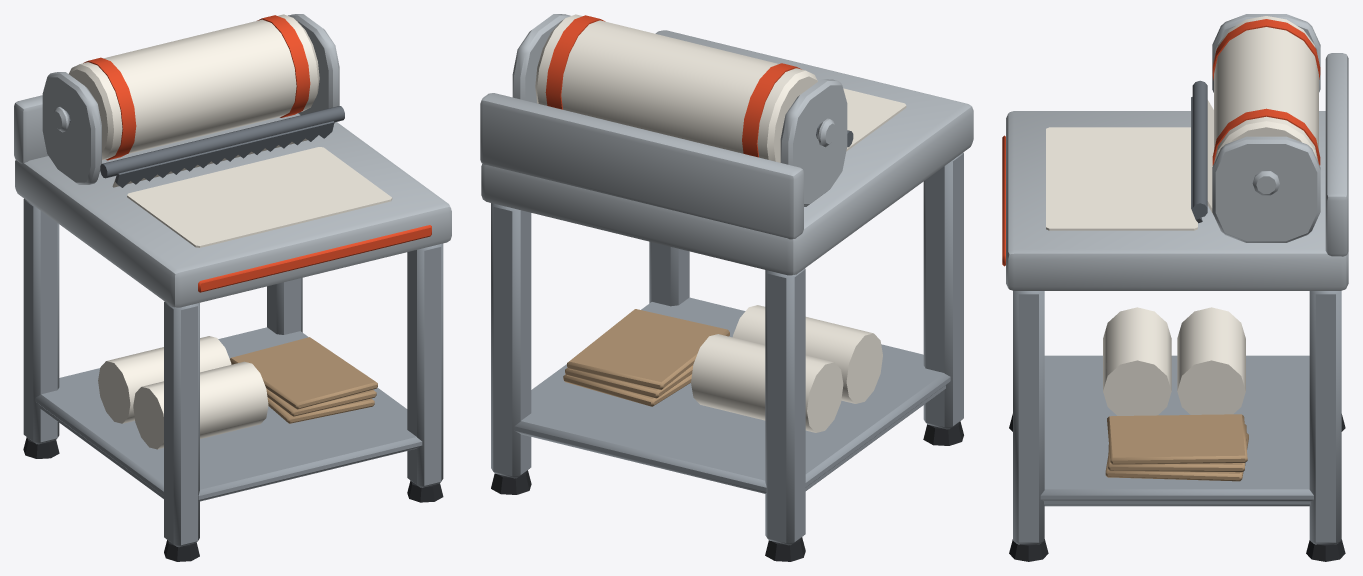
The model's file is Kitchen_WrapStation.fbx.
The picture shows the model from 3 angles, left to right: view 1: azimuth 30°, elevation 25°; view 2: azimuth 150°, elevation 25°; view 3: azimuth 270°, elevation 25°; orthographic projection. The views are drawn at different scales.
Parts seen in each view (by area): view 1: Frame, Worktop, PaperRoll, Sheet, SpareRolls, Dispenser, Bags, Cutter, Bands, Feet; view 2: Frame, Worktop, PaperRoll, SpareRolls, Bags, Dispenser, Bands, Feet, Sheet; view 3: Frame, Worktop, Sheet, SpareRolls, Dispenser, PaperRoll, Bags, Bands, Cutter, Feet.
Boxes of the visible parts, left/top/right/bottom form: Frame: left=23, top=198, right=443, bottom=547; Worktop: left=14, top=95, right=451, bottom=307; PaperRoll: left=69, top=14, right=319, bottom=187; Sheet: left=127, top=147, right=392, bottom=247; SpareRolls: left=98, top=336, right=268, bottom=449; Dispenser: left=42, top=14, right=339, bottom=184; Bags: left=230, top=337, right=377, bottom=423; Cutter: left=66, top=106, right=344, bottom=187; Bands: left=83, top=15, right=431, bottom=292; Feet: left=23, top=437, right=443, bottom=561; Frame: left=491, top=152, right=963, bottom=545; Worktop: left=480, top=30, right=973, bottom=275; PaperRoll: left=535, top=14, right=817, bottom=162; SpareRolls: left=691, top=305, right=882, bottom=432; Bags: left=563, top=309, right=729, bottom=406; Dispenser: left=512, top=14, right=847, bottom=206; Bands: left=545, top=15, right=801, bottom=157; Feet: left=491, top=421, right=963, bottom=561; Sheet: left=843, top=88, right=906, bottom=151; Frame: left=1013, top=291, right=1341, bottom=544; Worktop: left=1006, top=53, right=1348, bottom=290; Sheet: left=1046, top=127, right=1197, bottom=230; SpareRolls: left=1103, top=307, right=1245, bottom=415; Dispenser: left=1212, top=14, right=1320, bottom=242; PaperRoll: left=1207, top=16, right=1318, bottom=213; Bags: left=1105, top=414, right=1248, bottom=481; Bands: left=1002, top=19, right=1320, bottom=266; Cutter: left=1191, top=80, right=1207, bottom=223; Feet: left=1009, top=414, right=1345, bottom=561.
Size of the model in its own units: 300 by 409 by 303.
